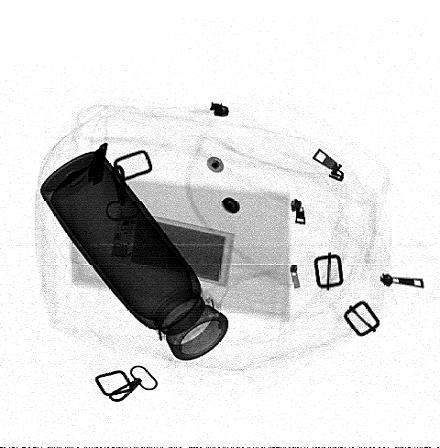Powerbank: (107, 204, 235, 287)
